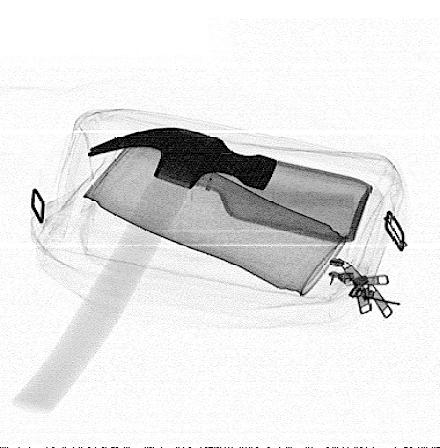Hammer: (11, 127, 279, 413)
